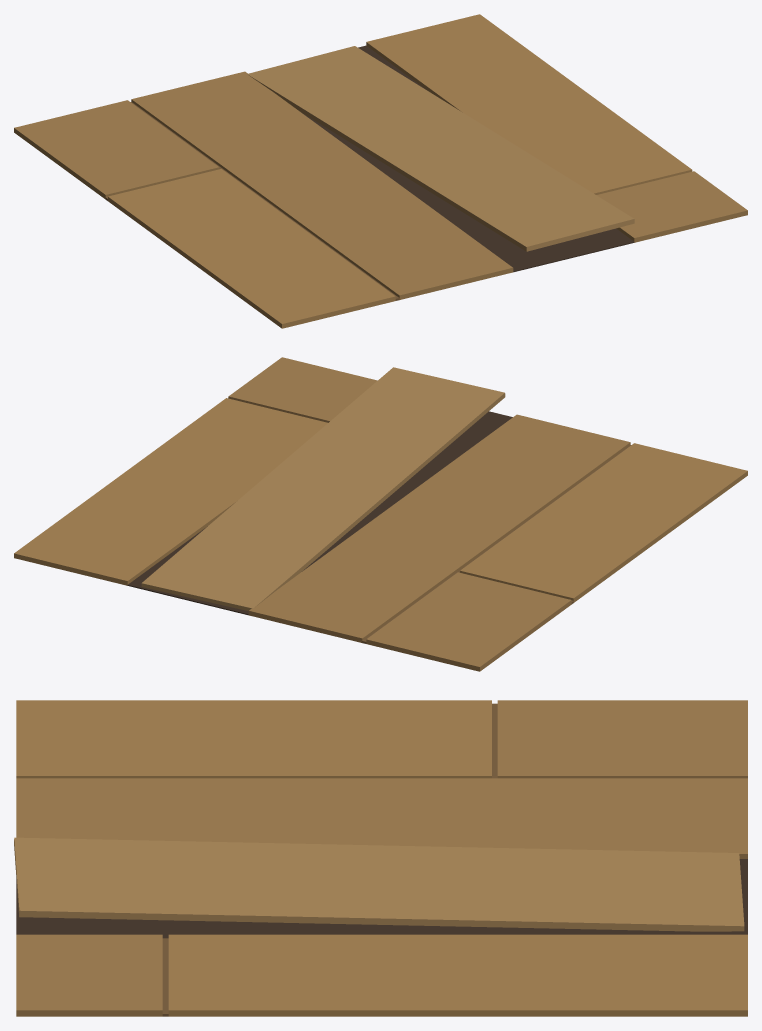
File: loose_board.glb
3 renders of one model, top to bottom at view 1: azimuth 30°, elevation 25°; view 2: azimuth 150°, elevation 25°; view 3: azimuth 270°, elevation 25°, orthographic. The views are drawn at different scales.
Parts seen in each view (by area): view 1: loose_board; view 2: loose_board; view 3: loose_board.
Part boxes in pixels (x1=…): loose_board: x1=14, y1=14, x2=747, y2=328; loose_board: x1=14, y1=357, x2=747, y2=671; loose_board: x1=14, y1=700, x2=747, y2=1016.
Bounding box in the file's own units: 0.96 × 0.045 × 0.96.
